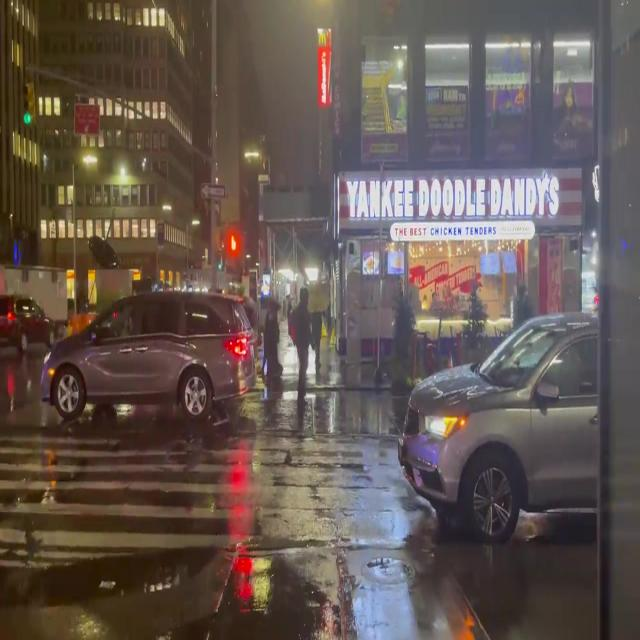Car: (405, 313, 595, 538), (42, 289, 251, 422)
